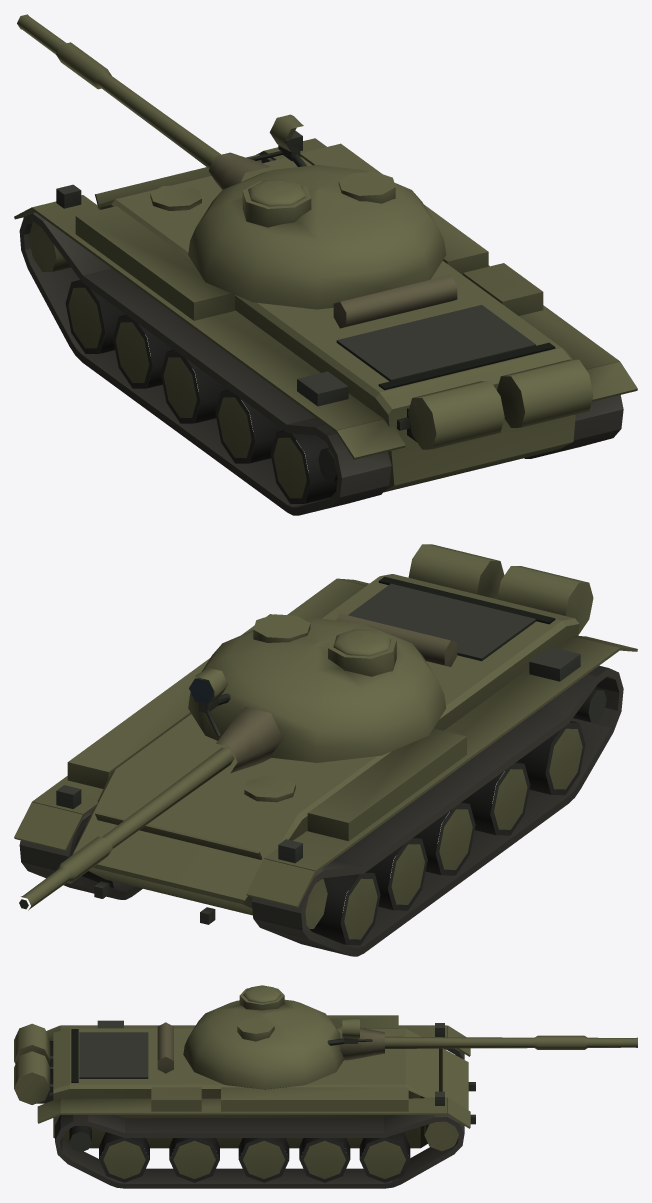
The model's file is t62alt_lod2.glb.
The picture shows the model from 3 angles, top to bottom: view 1: azimuth 30°, elevation 25°; view 2: azimuth 150°, elevation 25°; view 3: azimuth 270°, elevation 25°; orthographic projection. The views are drawn at different scales.
Parts seen in each view (by area): view 1: Hull_T62A_Paint, TurretYaw_T62A_Paint, LeftTrack_T62A_TrackSteel, Hull_T62A_DarkSteel, LeftTrack_Motion_T62A_Paint, LeftTrack_Motion_T62A_Rubber, BarrelRecoil_T62A_Paint, Hull_T62A_Canvas, RightTrack_T62A_TrackSteel, Hull_T62A_Cavity, GunPitch_T62A_Canvas; view 2: Hull_T62A_Paint, TurretYaw_T62A_Paint, LeftTrack_T62A_TrackSteel, Hull_T62A_DarkSteel, LeftTrack_Motion_T62A_Rubber, LeftTrack_Motion_T62A_Paint, BarrelRecoil_T62A_Paint, GunPitch_T62A_Canvas, RightTrack_T62A_TrackSteel, Hull_T62A_Canvas, Hull_T62A_Cavity, LeftTrack_Motion_T62A_DarkSteel; view 3: Hull_T62A_Paint, RightTrack_T62A_TrackSteel, TurretYaw_T62A_Paint, RightTrack_Motion_T62A_Paint, Hull_T62A_DarkSteel, RightTrack_Motion_T62A_Rubber, BarrelRecoil_T62A_Paint, GunPitch_T62A_Canvas, Hull_T62A_Canvas, RightTrack_Motion_T62A_DarkSteel, Hull_T62A_Cavity, GunPitch_T62A_Paint.
Boxes of the visible parts, x1,y1,x2,y2 form: Hull_T62A_Paint: (14,138,637,492); TurretYaw_T62A_Paint: (188,165,446,309); LeftTrack_T62A_TrackSteel: (19,212,391,515); Hull_T62A_DarkSteel: (56,131,535,441); LeftTrack_Motion_T62A_Paint: (29,222,306,498); LeftTrack_Motion_T62A_Rubber: (65,280,337,503); BarrelRecoil_T62A_Paint: (17,14,220,168); Hull_T62A_Canvas: (333,275,457,328); RightTrack_T62A_TrackSteel: (261,158,623,458); Hull_T62A_Cavity: (378,342,555,390); GunPitch_T62A_Canvas: (208,152,270,189); Hull_T62A_Paint: (14,544,637,915); TurretYaw_T62A_Paint: (188,614,446,762); LeftTrack_T62A_TrackSteel: (251,665,623,956); Hull_T62A_DarkSteel: (56,578,580,924); LeftTrack_Motion_T62A_Rubber: (310,721,585,945); LeftTrack_Motion_T62A_Paint: (305,728,582,939); BarrelRecoil_T62A_Paint: (21,747,234,910); GunPitch_T62A_Canvas: (216,706,283,772); RightTrack_T62A_TrackSteel: (19,809,142,899); Hull_T62A_Canvas: (336,613,457,666); Hull_T62A_Cavity: (378,576,555,624); LeftTrack_Motion_T62A_DarkSteel: (573,688,606,722); Hull_T62A_Paint: (14,1015,470,1148); RightTrack_T62A_TrackSteel: (55,1115,464,1188); TurretYaw_T62A_Paint: (183,985,344,1089); RightTrack_Motion_T62A_Paint: (103,1121,458,1179); Hull_T62A_DarkSteel: (37,1020,475,1124); RightTrack_Motion_T62A_Rubber: (99,1132,410,1182); BarrelRecoil_T62A_Paint: (385,1035,637,1049); GunPitch_T62A_Canvas: (340,1024,384,1060); Hull_T62A_Canvas: (157,1022,173,1073); RightTrack_Motion_T62A_DarkSteel: (69,1126,91,1152); Hull_T62A_Cavity: (71,1029,78,1082); GunPitch_T62A_Paint: (342,1017,359,1038).
Bounding box in the file's own units: 3.32 × 2.49 × 9.97.
